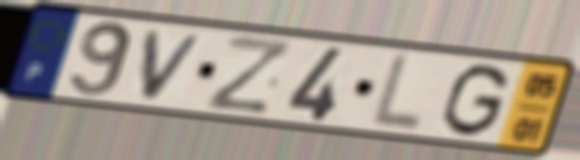4: (284, 42, 346, 124)
9: (67, 19, 133, 99)
G: (438, 61, 513, 140)
L: (365, 50, 428, 136)
V: (138, 28, 210, 103)
Z: (202, 32, 296, 117)
